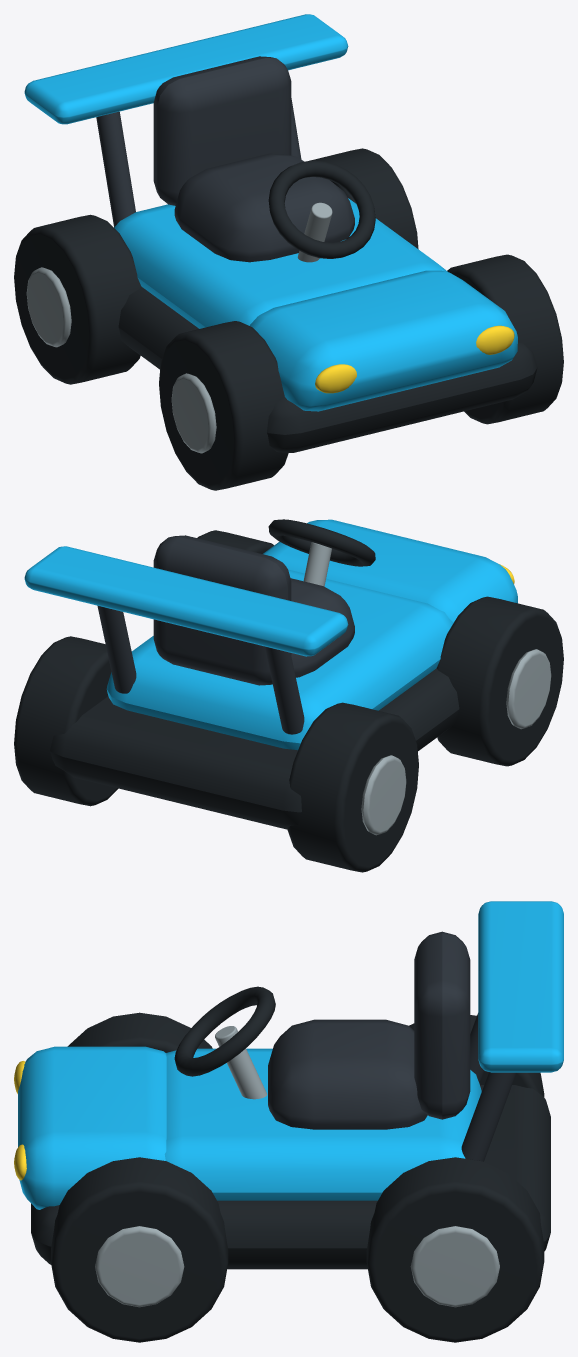
File: kart.glb
The picture shows the model from 3 angles, top to bottom: view 1: azimuth 30°, elevation 25°; view 2: azimuth 150°, elevation 25°; view 3: azimuth 270°, elevation 25°; orthographic projection. The views are drawn at different scales.
Visible parts, largest first — view 1: Sculpted kart nose, Cockpit body, Driver seat back, Racing rubber tire, Racing rubber tire.001, Rounded bumper chassis, Rear aerodynamic spoiler, Driver bucket, Racing rubber tire.002, Kart steering wheel, Racing rubber tire.003, Alloy wheel hub.001 (+5 smaller); view 2: Rounded bumper chassis, Cockpit body, Rear aerodynamic spoiler, Racing rubber tire.001, Racing rubber tire, Racing rubber tire.003, Sculpted kart nose, Driver seat back, Alloy wheel hub, Alloy wheel hub.001, Kart steering wheel, Driver bucket (+4 smaller); view 3: Cockpit body, Racing rubber tire.003, Racing rubber tire.002, Sculpted kart nose, Rounded bumper chassis, Driver bucket, Rear aerodynamic spoiler, Driver seat back, Alloy wheel hub.003, Alloy wheel hub.002, Kart steering wheel, Racing rubber tire (+3 smaller).
Part boxes in pixels (box(x1,y1,x2,y2)): Sculpted kart nose: box(249, 270, 517, 411); Cockpit body: box(114, 198, 447, 328); Driver seat back: box(153, 56, 291, 205); Racing rubber tire: box(159, 321, 288, 490); Racing rubber tire.001: box(14, 214, 141, 384); Rounded bumper chassis: box(118, 286, 537, 452); Rear aerodynamic spoiler: box(24, 14, 348, 124); Driver bucket: box(174, 153, 354, 262); Racing rubber tire.002: box(447, 254, 563, 424); Kart steering wheel: box(268, 160, 375, 258); Racing rubber tire.003: box(309, 148, 418, 249); Alloy wheel hub.001: box(26, 267, 71, 347); Rounded bumper chassis: box(50, 668, 459, 829); Cockpit body: box(106, 569, 453, 750); Rear aerodynamic spoiler: box(24, 546, 348, 656); Racing rubber tire.001: box(287, 702, 418, 872); Racing rubber tire: box(436, 596, 563, 766); Racing rubber tire.003: box(14, 636, 118, 806); Sculpted kart nose: box(263, 519, 517, 622); Driver seat back: box(153, 535, 291, 685); Alloy wheel hub: box(506, 649, 551, 729); Alloy wheel hub.001: box(361, 755, 406, 835); Kart steering wheel: box(268, 519, 375, 566); Driver bucket: box(290, 578, 354, 677); Cockpit body: box(164, 1048, 481, 1200); Racing rubber tire.003: box(366, 1157, 544, 1342); Racing rubber tire.002: box(51, 1157, 228, 1342); Sculpted kart nose: box(18, 1046, 166, 1209); Rounded bumper chassis: box(31, 1085, 550, 1269); Driver bucket: box(268, 1019, 427, 1129); Rear aerodynamic spoiler: box(478, 901, 563, 1072); Driver seat back: box(414, 931, 470, 1119); Alloy wheel hub.003: box(410, 1226, 499, 1307); Alloy wheel hub.002: box(95, 1226, 184, 1307); Kart steering wheel: box(174, 986, 275, 1076); Racing rubber tire: box(67, 1012, 212, 1052).
Bounding box in the file's own units: 0.655 × 0.505 × 0.836.
